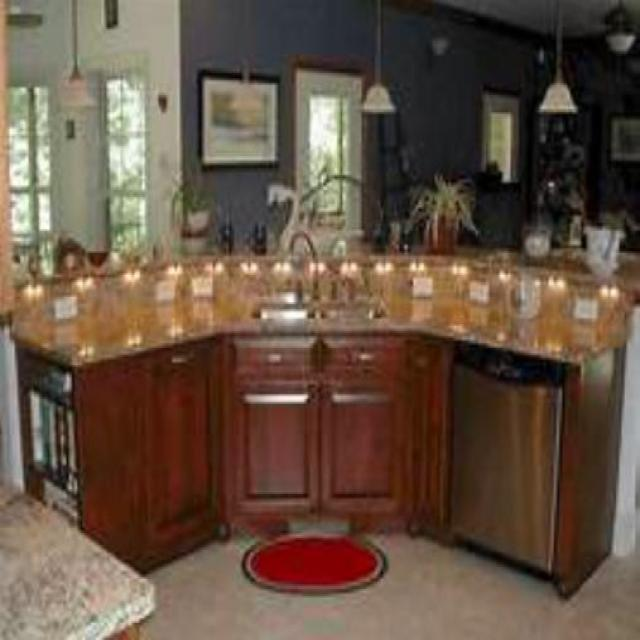dishwasher: (447, 334, 562, 580)
